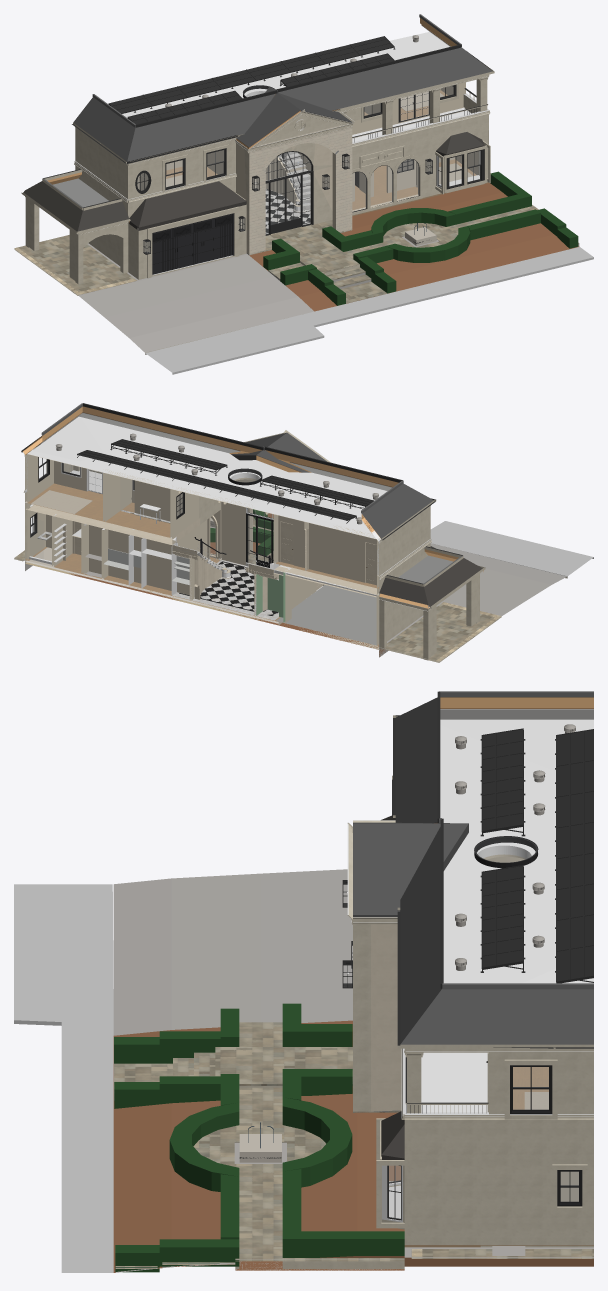
Rendered from elevation-front-60ec693b4103.glb.
3 views of the same model, one above another, from view 1: azimuth 30°, elevation 25°; view 2: azimuth 150°, elevation 25°; view 3: azimuth 270°, elevation 25° (orthographic). The views are drawn at different scales.
Parts seen in each view (by area): view 1: elevation-front-8ae50a6395ceb8a4, elevation-front-b5dfe7249a3eb059, elevation-front-aee2d046b0172b1e, elevation-front-e33d7b378dc851e2, elevation-front-72c8ba8a1aabe0d2, elevation-front-25c3ff3929e46046, elevation-front-0b9d5d1cd0b2c60f, elevation-front-27d577fbd7f2ff4b, elevation-front-2f311b438f02a7c5, elevation-front-f9d31319fa3bf46f, elevation-front-a9e726e5451ff895, elevation-front-698abdfdc6fb970d (+50 smaller); view 2: elevation-front-d56ee2a9d54b1fc2, elevation-front-2575515a05775d9e, elevation-front-8ae50a6395ceb8a4, elevation-front-b5dfe7249a3eb059, elevation-front-bf54ea866a3565d8, elevation-front-eb02897c2e79e2b1, elevation-front-27d577fbd7f2ff4b, elevation-front-0b9d5d1cd0b2c60f, elevation-front-19647d6da46c2b80, elevation-front-0cae3eb2f2d52fad, elevation-front-312b4ac1be39223d, elevation-front-9d91b47435c6fb33 (+51 smaller); view 3: elevation-front-8ae50a6395ceb8a4, elevation-front-b5dfe7249a3eb059, elevation-front-aee2d046b0172b1e, elevation-front-d56ee2a9d54b1fc2, elevation-front-72c8ba8a1aabe0d2, elevation-front-a75a0c9c223328ee, elevation-front-0b9d5d1cd0b2c60f, elevation-front-319244b3406409d9, elevation-front-592bd9af2ed71797, elevation-front-13e0fa11ee5899e1, elevation-front-e33d7b378dc851e2, elevation-front-3857a3fa22eeeb6b (+42 smaller).
Boxes of the visible parts, x1,y1,x2,y2 form: elevation-front-8ae50a6395ceb8a4: (15, 243, 313, 354); elevation-front-b5dfe7249a3eb059: (145, 247, 593, 374); elevation-front-aee2d046b0172b1e: (249, 183, 579, 311); elevation-front-e33d7b378dc851e2: (278, 47, 492, 110); elevation-front-72c8ba8a1aabe0d2: (254, 205, 578, 303); elevation-front-25c3ff3929e46046: (127, 94, 275, 161); elevation-front-0b9d5d1cd0b2c60f: (108, 36, 395, 113); elevation-front-27d577fbd7f2ff4b: (14, 235, 136, 295); elevation-front-2f311b438f02a7c5: (152, 213, 233, 274); elevation-front-f9d31319fa3bf46f: (257, 125, 343, 252); elevation-front-a9e726e5451ff895: (138, 181, 246, 230); elevation-front-698abdfdc6fb970d: (265, 171, 313, 235); elevation-front-d56ee2a9d54b1fc2: (32, 416, 387, 533); elevation-front-2575515a05775d9e: (25, 483, 378, 595); elevation-front-8ae50a6395ceb8a4: (14, 543, 567, 661); elevation-front-b5dfe7249a3eb059: (430, 521, 593, 577); elevation-front-bf54ea866a3565d8: (276, 585, 378, 645); elevation-front-eb02897c2e79e2b1: (278, 515, 376, 582); elevation-front-27d577fbd7f2ff4b: (381, 602, 501, 662); elevation-front-0b9d5d1cd0b2c60f: (77, 450, 356, 523); elevation-front-19647d6da46c2b80: (108, 529, 172, 590); elevation-front-0cae3eb2f2d52fad: (362, 483, 433, 538); elevation-front-312b4ac1be39223d: (378, 506, 430, 576); elevation-front-9d91b47435c6fb33: (27, 451, 379, 539); elevation-front-8ae50a6395ceb8a4: (113, 869, 593, 1257); elevation-front-b5dfe7249a3eb059: (14, 884, 113, 1272); elevation-front-aee2d046b0172b1e: (113, 1020, 593, 1272); elevation-front-d56ee2a9d54b1fc2: (440, 719, 593, 983); elevation-front-72c8ba8a1aabe0d2: (114, 1022, 404, 1268); elevation-front-a75a0c9c223328ee: (400, 989, 593, 1044); elevation-front-0b9d5d1cd0b2c60f: (555, 729, 593, 983); elevation-front-319244b3406409d9: (485, 1137, 583, 1244); elevation-front-592bd9af2ed71797: (404, 1137, 485, 1244); elevation-front-13e0fa11ee5899e1: (353, 823, 468, 916); elevation-front-e33d7b378dc851e2: (400, 827, 441, 1043); elevation-front-3857a3fa22eeeb6b: (371, 924, 401, 1111).
Size of the model in its own units: 26.39 by 8.45 by 16.63.
68 materials, 16 textured.
